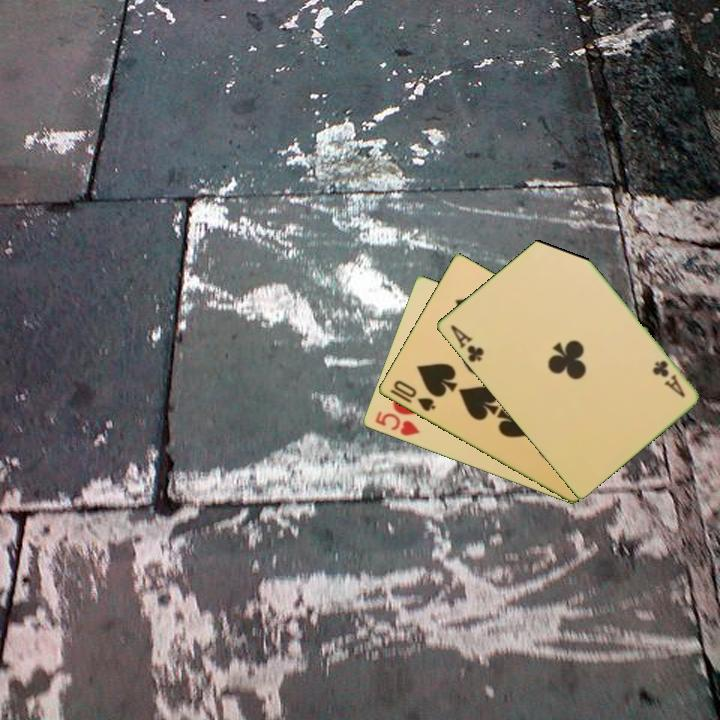10s: (389, 377, 439, 414)
5h: (371, 408, 423, 439)
Ac: (446, 321, 487, 365), (648, 356, 688, 400)
